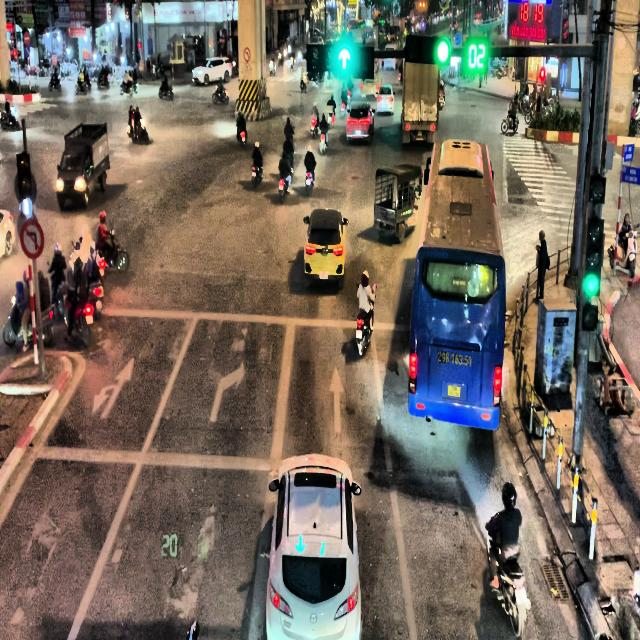BUS: (408, 139, 506, 430)
CAR: (265, 453, 362, 640), (303, 208, 348, 284), (346, 101, 374, 144), (192, 57, 232, 85), (0, 210, 15, 258), (375, 84, 395, 114)
MOTORBIKE: (486, 526, 530, 638), (3, 270, 54, 349), (58, 283, 93, 348), (97, 225, 129, 272), (356, 300, 374, 357), (126, 115, 149, 144), (0, 100, 19, 130), (278, 168, 293, 203), (501, 111, 519, 133), (212, 86, 228, 105), (120, 78, 139, 94), (251, 164, 263, 189), (48, 71, 61, 92), (305, 168, 314, 196), (319, 128, 328, 154), (97, 71, 110, 88), (159, 84, 173, 99), (75, 78, 88, 94), (237, 127, 247, 147), (310, 116, 319, 138), (300, 75, 307, 92)
TRUCK: (56, 122, 110, 210)
